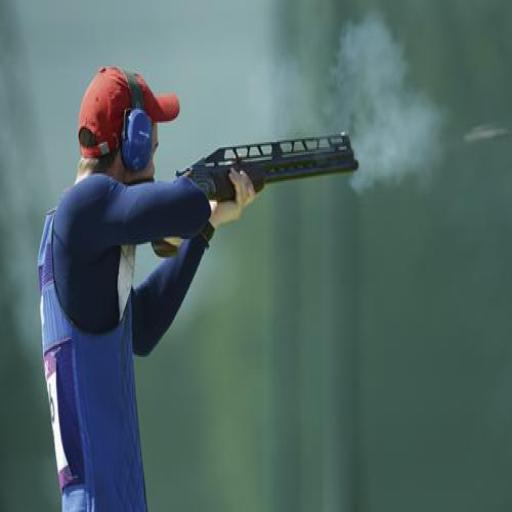shooting: (35, 63, 262, 510)
